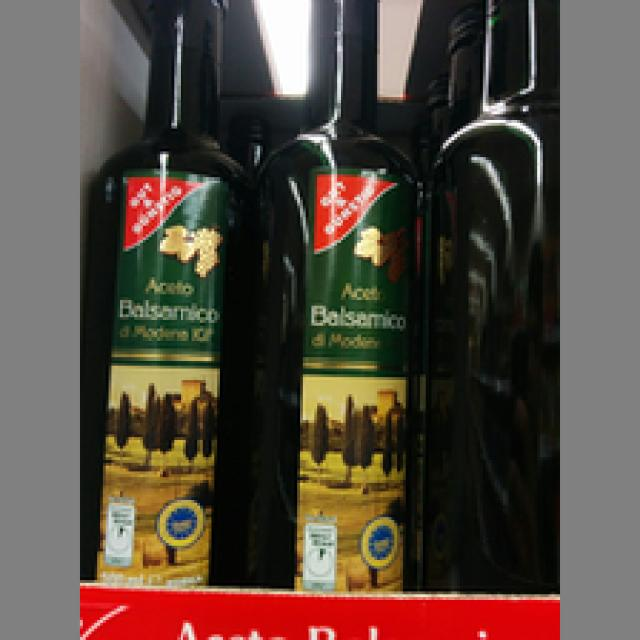groceries: (257, 0, 428, 591), (80, 0, 251, 580)
